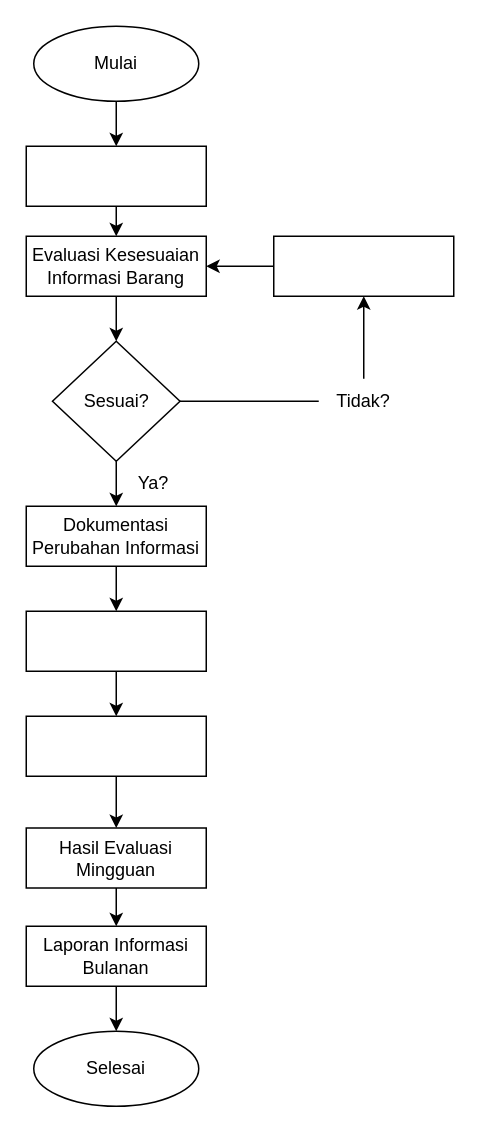
Image size: 480x1133. Some labels were removed from this diagram. The centre of each missing label's shape, as x and y in pixels:
Form Laporan Mingguan: point 115,175
Notifikasi ke Semua Cabang: point 115,745
Pembaruan di Sistem Pusat: point 115,640
Pengecekan Ketidaksesuaian: point 363,265
